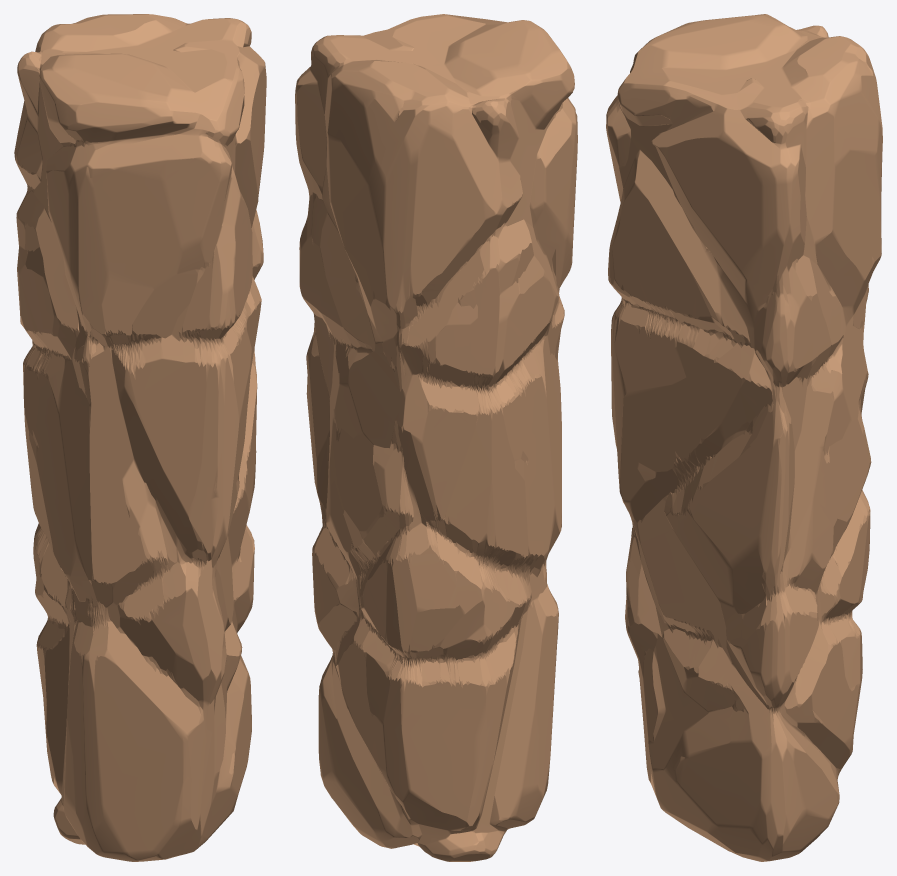
3 views of the same model, side by side, from view 1: azimuth 30°, elevation 25°; view 2: azimuth 150°, elevation 25°; view 3: azimuth 270°, elevation 25° (orthographic). The views are drawn at different scales.
Visible parts, largest first — view 1: Mesh_50_LOD0; view 2: Mesh_50_LOD0; view 3: Mesh_50_LOD0.
Boxes of the visible parts, x1,y1,x2,y2 form: Mesh_50_LOD0: (14, 14, 266, 861); Mesh_50_LOD0: (295, 14, 577, 861); Mesh_50_LOD0: (606, 14, 882, 861).
Size of what is drawn, in the model's own units: 1298 by 4124 by 1340.
